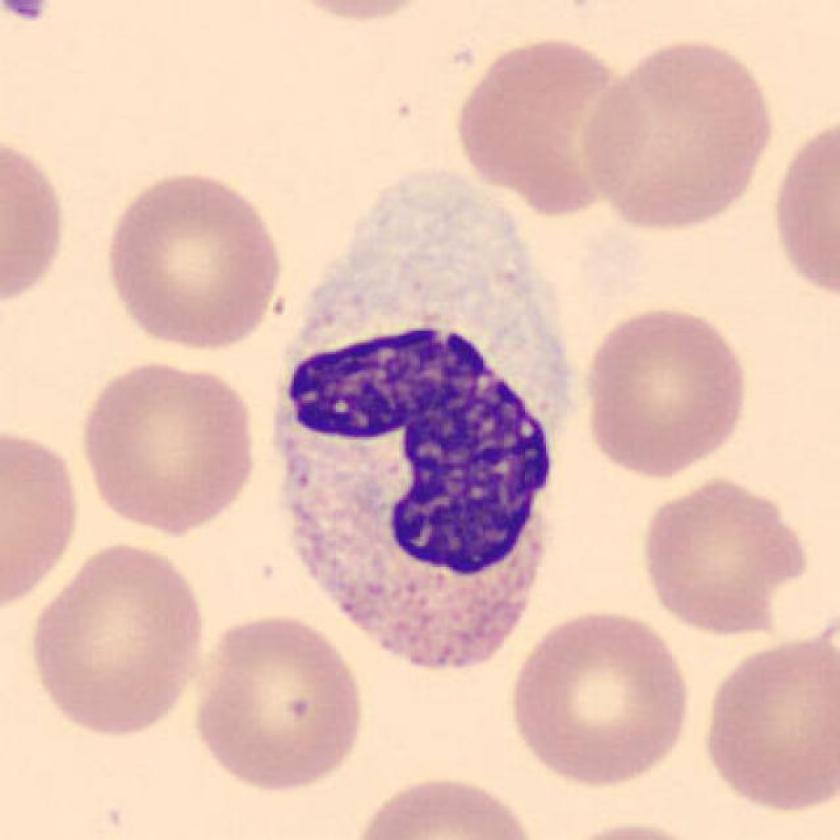neutrophil: (281, 177, 579, 672)
